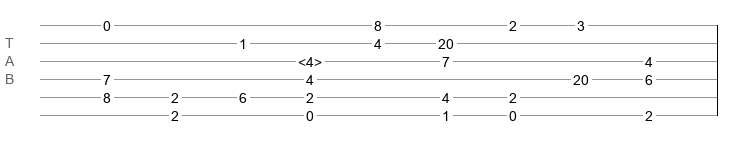0: (103, 18, 111, 28), (306, 108, 314, 118), (509, 108, 517, 118)
1: (239, 36, 247, 46), (442, 108, 450, 118)
2: (171, 108, 179, 118), (171, 90, 179, 100), (306, 90, 314, 100), (509, 18, 517, 28), (509, 90, 517, 100), (645, 108, 653, 118)
20: (438, 36, 454, 46), (573, 72, 589, 82)
3: (577, 18, 585, 28)
4: (306, 72, 314, 82), (374, 36, 382, 46), (442, 90, 450, 100), (645, 54, 653, 64)
6: (239, 90, 247, 100), (645, 72, 653, 82)
7: (103, 72, 111, 82), (442, 54, 450, 64)
8: (103, 90, 111, 100), (374, 18, 382, 28)
harmonic: (298, 54, 322, 64)
